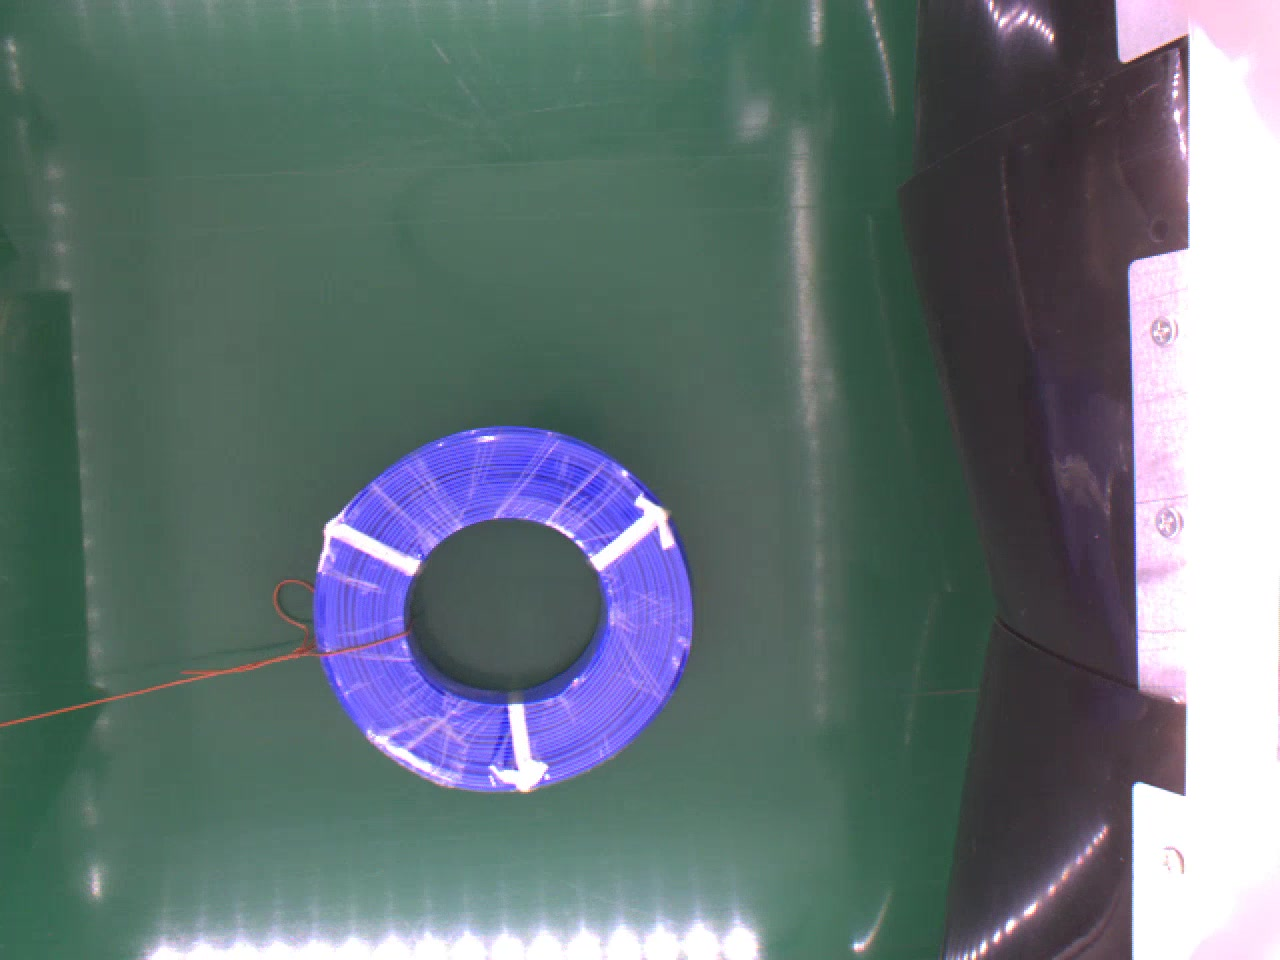blue: (306, 417, 698, 789)
